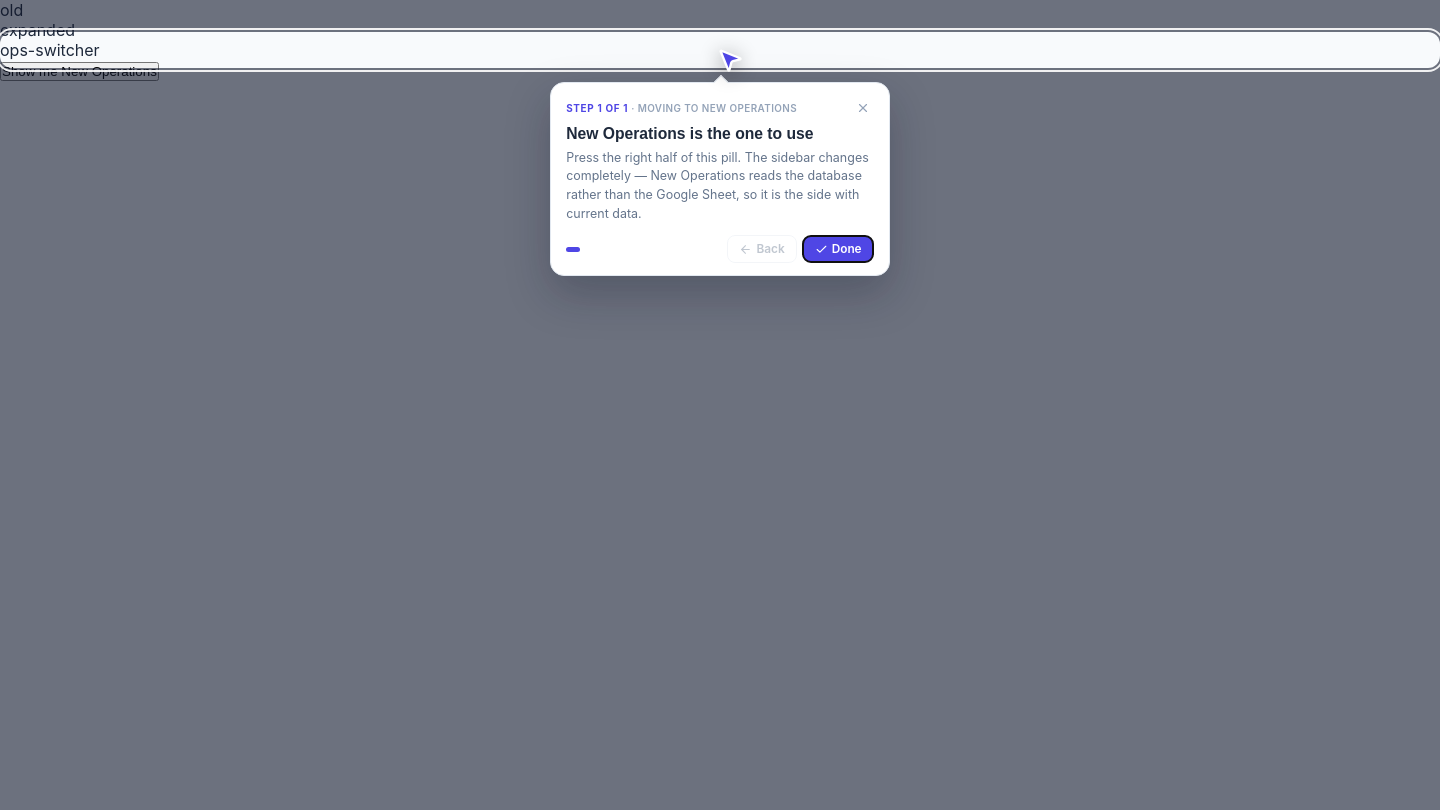
Test: TourProvider: sunset tour anchors that are not on the page › runs only the switcher is present, counting only the present steps
Expected: the heading "New Operations is the one to use" is shown, [566, 125, 814, 142]
What coordinates should you click on to do the following:
click the button "Done"
I would click on:
 (838, 249)
Its box is [802, 236, 874, 263].
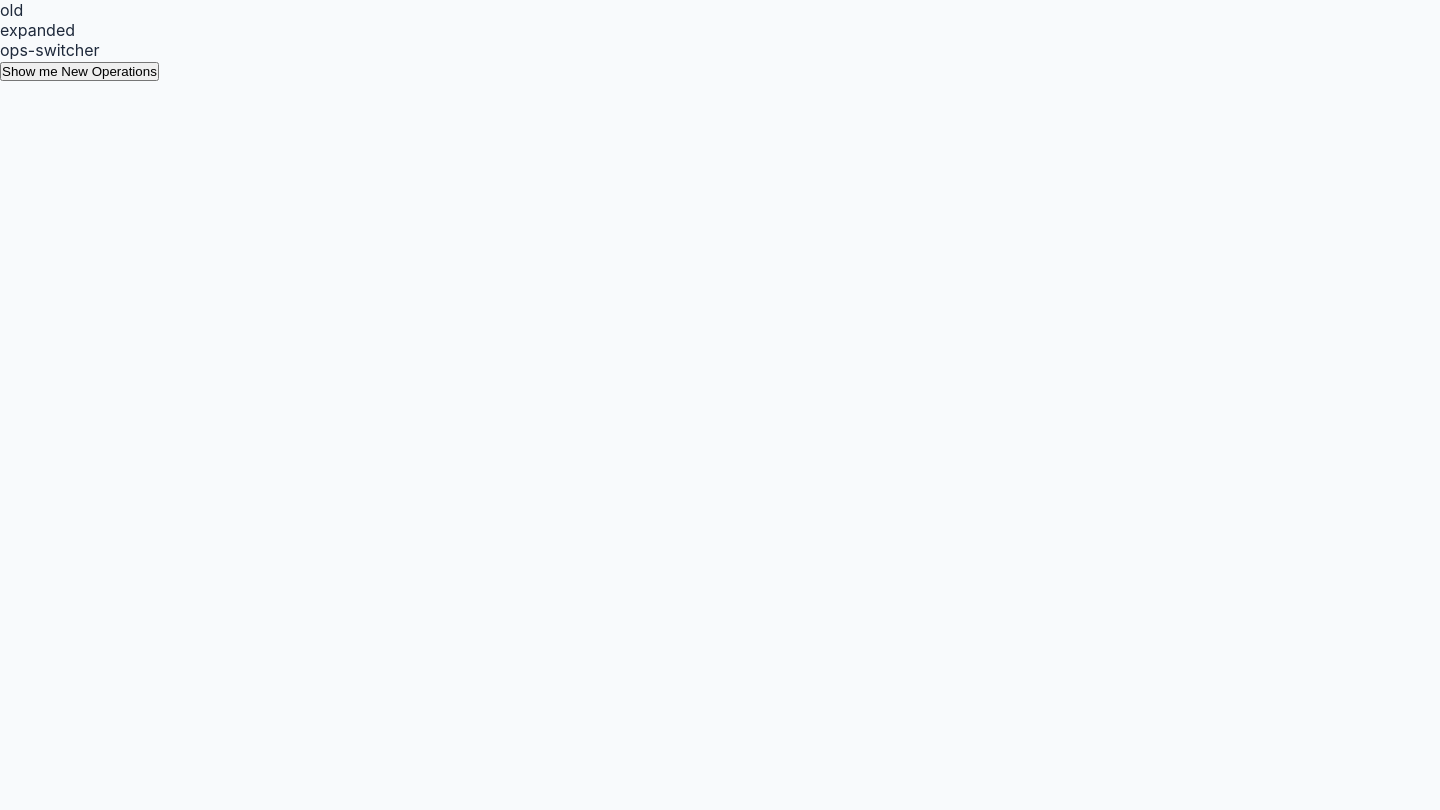
Result: the dialog is gone
